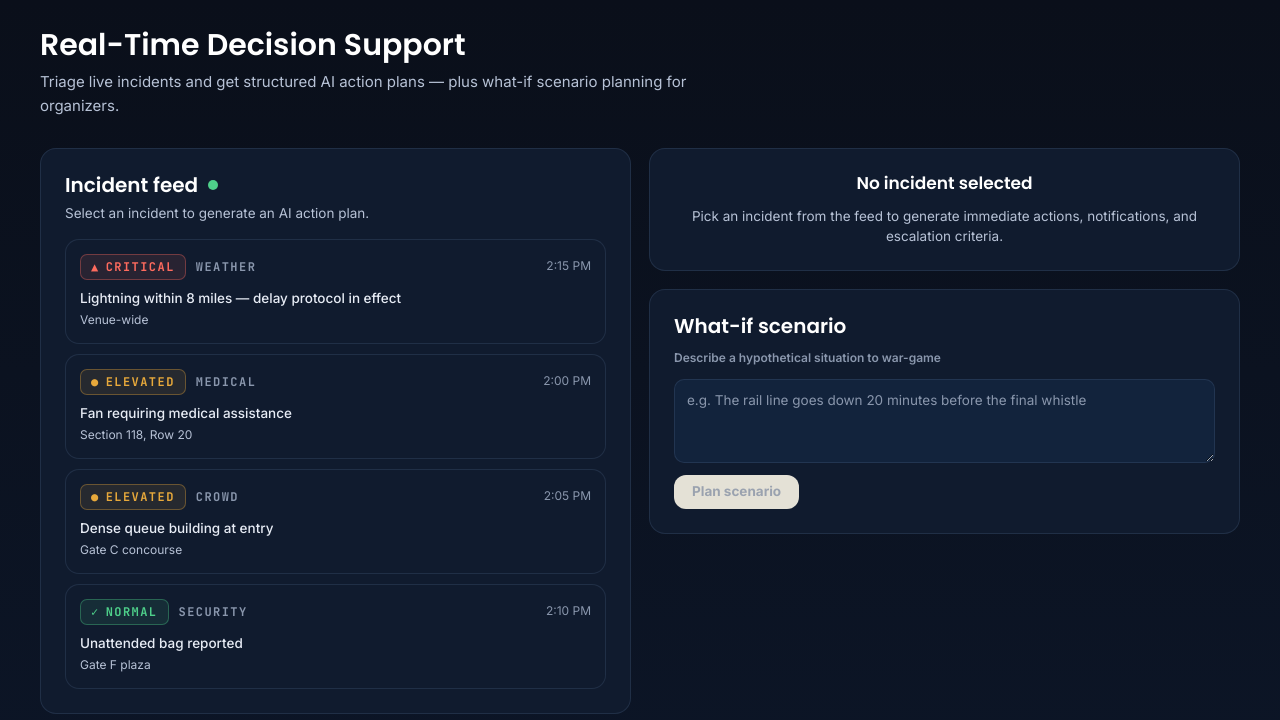
Test: RealTimeDecisionSupportScreen › generates a structured action plan when an incident is selected
Step 1. Click the button "Dense queue building at entry" → [133, 497], box x1=65 y1=469 x2=606 y2=574
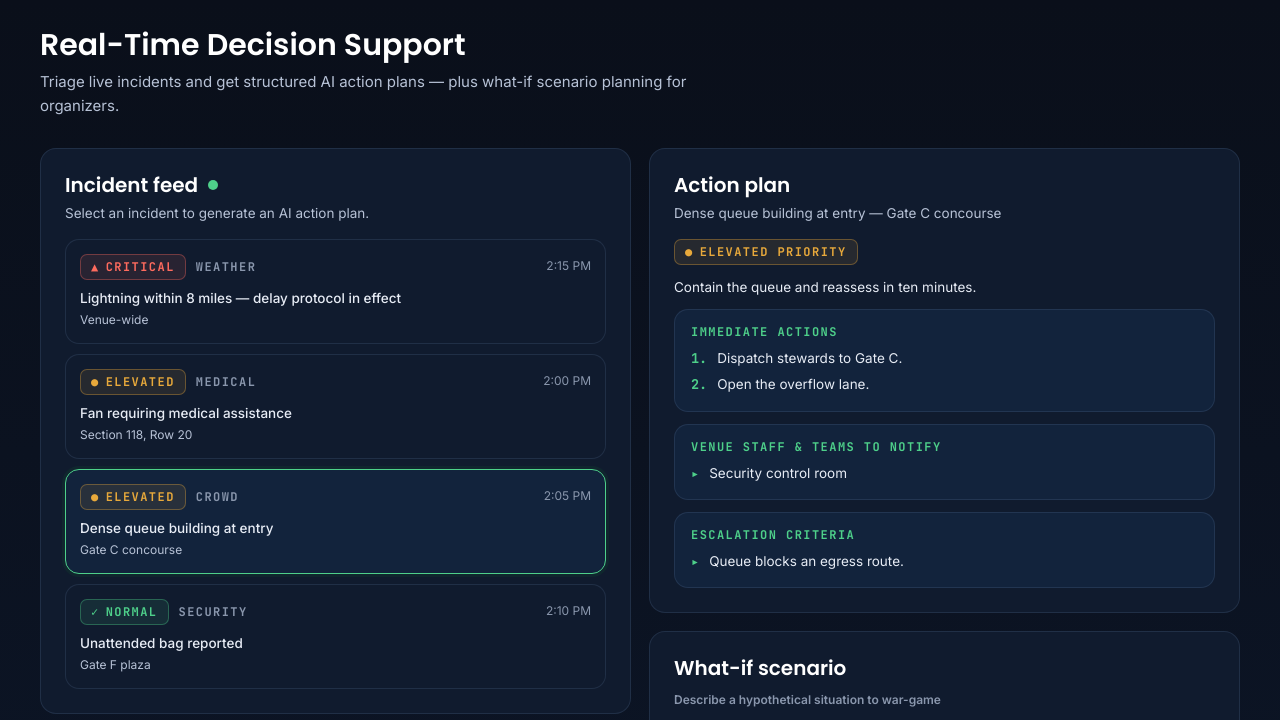
Expected: the heading "Immediate actions" is shown, x1=691 y1=324 x2=838 y2=340
Now the text "Contain the queue and reassess in ten minutes." is shown, box x1=674 y1=279 x2=976 y2=295
Now the heading "Venue staff & teams to notify" is shown, box x1=691 y1=438 x2=942 y2=454
